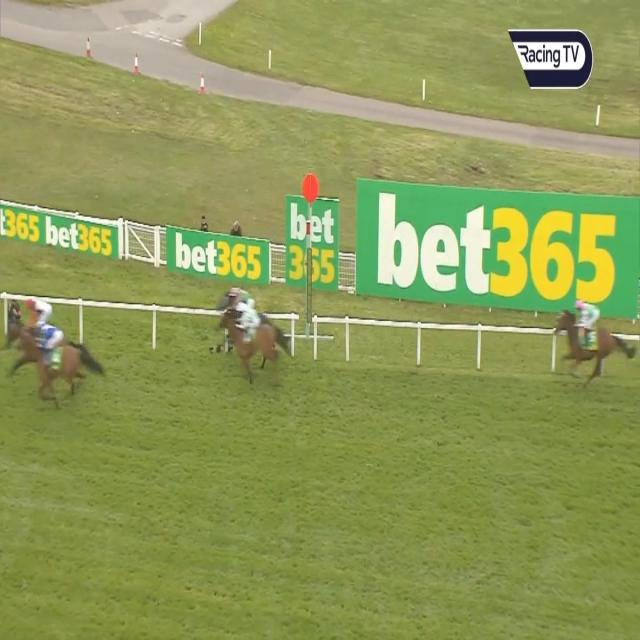horses-racing: (554, 294, 628, 402), (31, 320, 86, 420), (223, 302, 282, 386), (11, 287, 50, 373), (213, 281, 253, 331)
